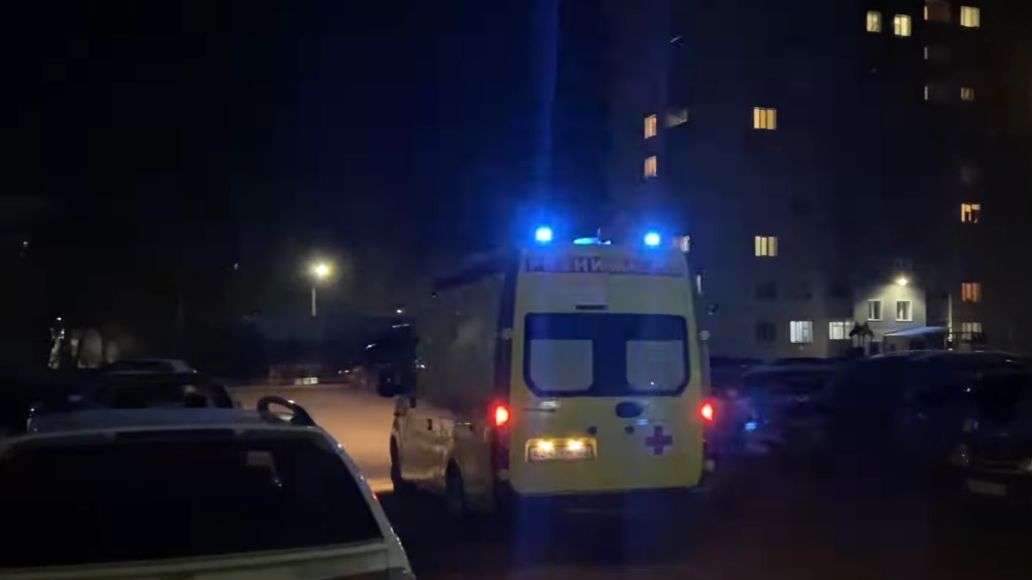intensive care unit: (391, 224, 721, 535)
